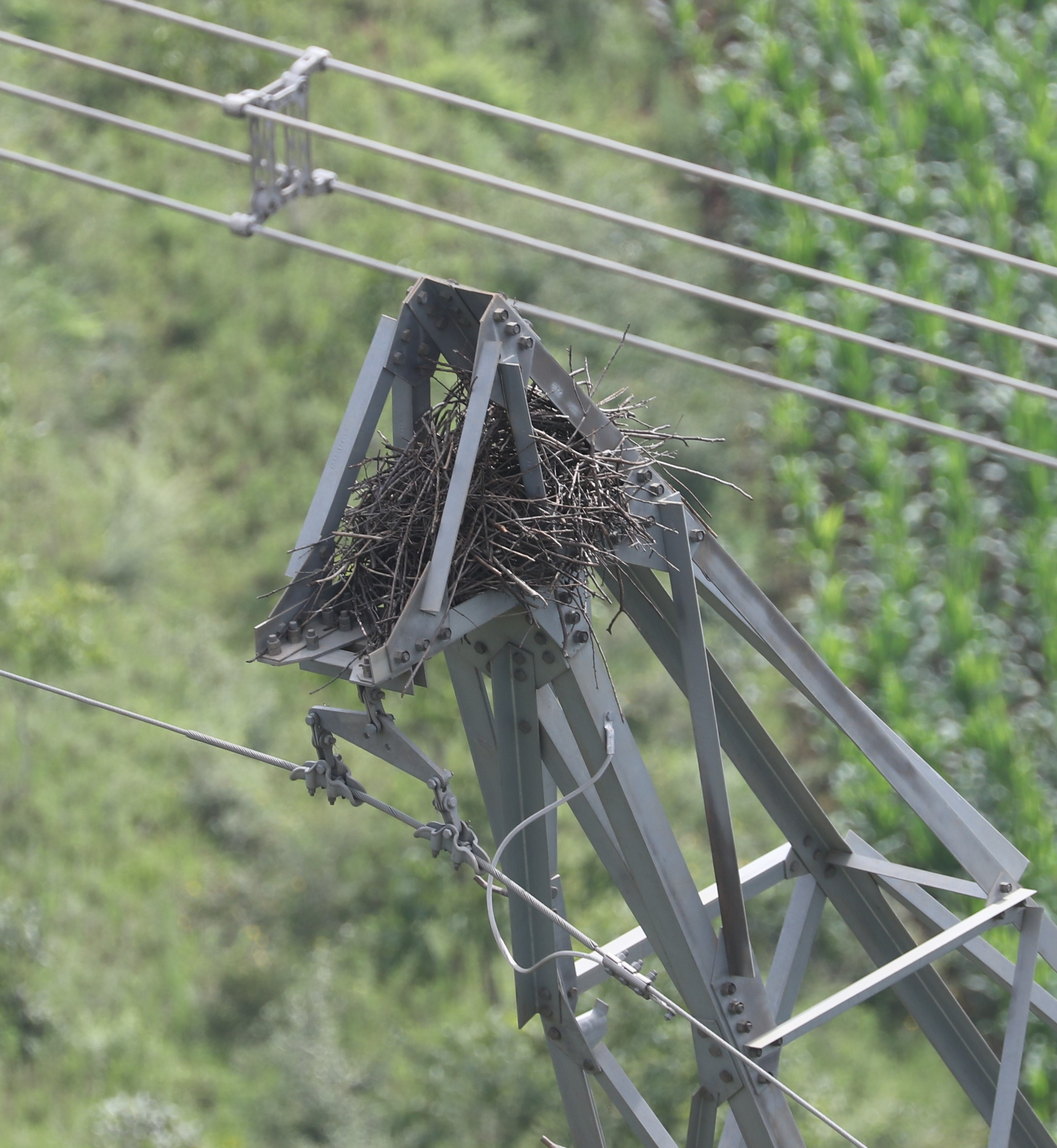nest: (311, 424, 644, 632)
